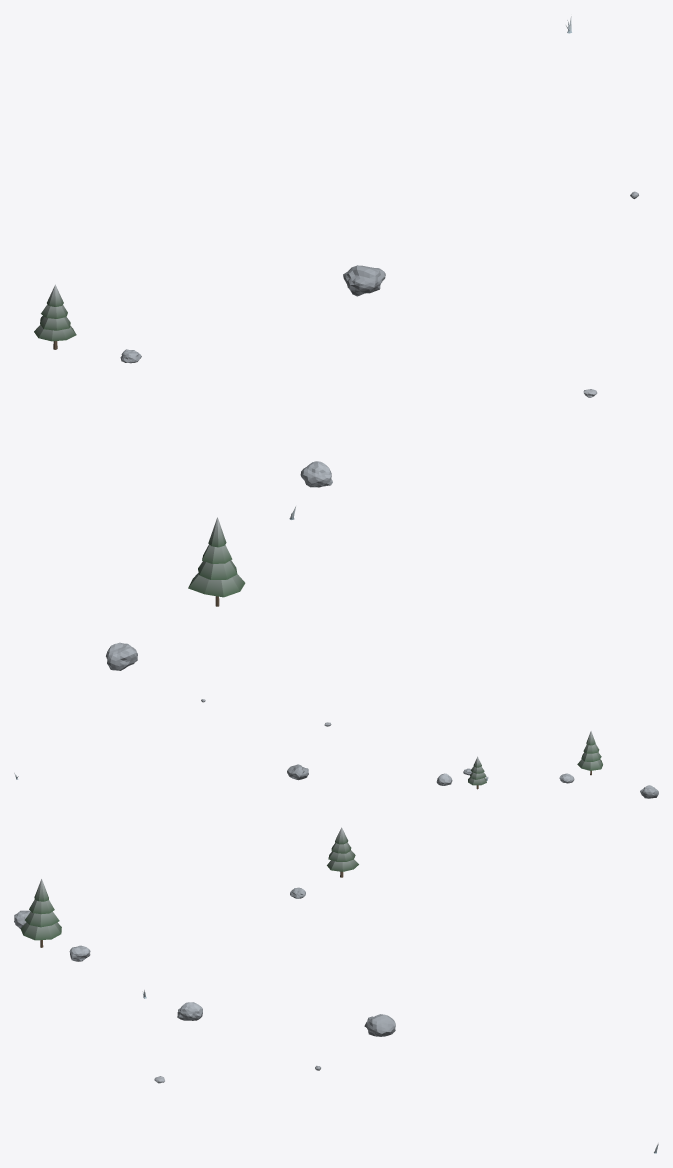
File: frost_land_scatter_c14_13.glb
The picture shows the model from 3 angles, top to bottom: view 1: azimuth 30°, elevation 25°; view 2: azimuth 150°, elevation 25°; view 3: azimuth 270°, elevation 25°; orthographic projection. The views are drawn at different scales.
Parts seen in each view (by area): view 1: frost_land_scatter_c14_13; view 2: frost_land_scatter_c14_13; view 3: frost_land_scatter_c14_13.
Boxes of the visible parts, x1,y1,x2,y2 form: frost_land_scatter_c14_13: (34, 16, 638, 670); frost_land_scatter_c14_13: (14, 699, 658, 798); frost_land_scatter_c14_13: (14, 827, 658, 1153).
Bounding box in the file's own units: 135 × 29.34 × 112.
